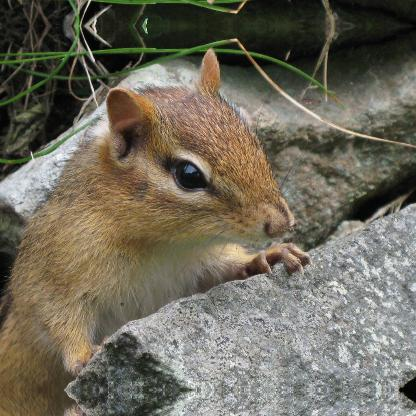Squirrel: (0, 45, 319, 389)
